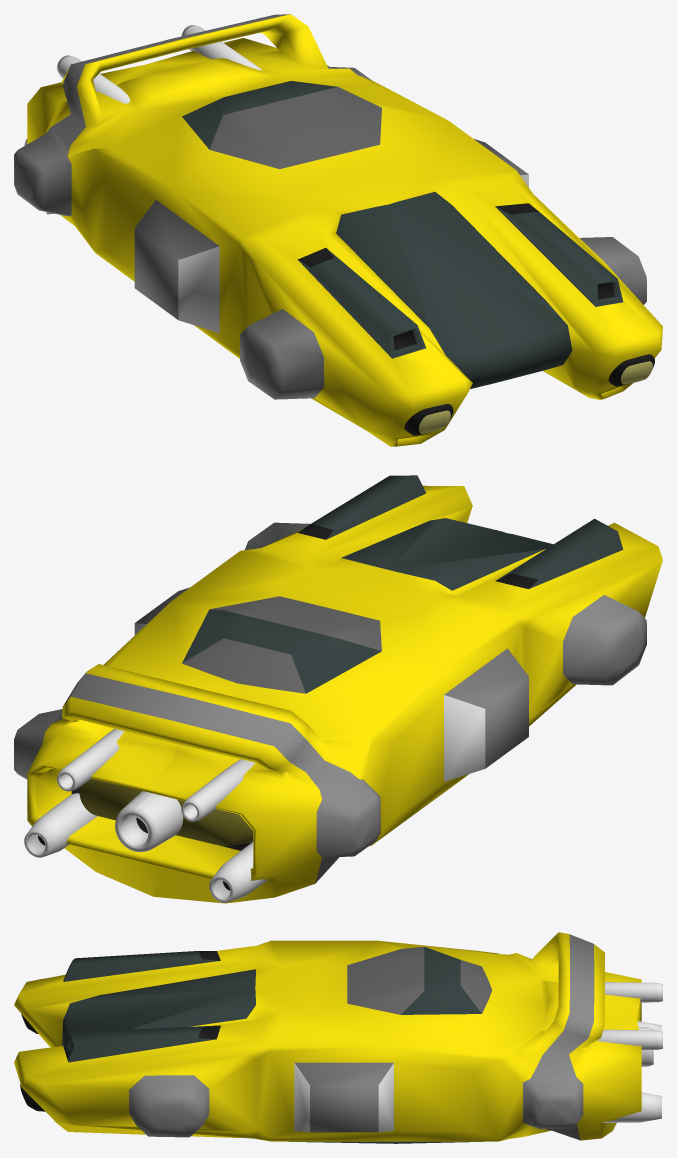
Rendered from bodyfix.fbx.
3 views of the same model, one above another, from view 1: azimuth 30°, elevation 25°; view 2: azimuth 150°, elevation 25°; view 3: azimuth 270°, elevation 25° (orthographic). The views are drawn at different scales.
Parts seen in each view (by area): view 1: Cube; view 2: Cube; view 3: Cube.
Part boxes in pixels (left/top/right/bottom): Cube: left=14, top=14, right=662, bottom=446; Cube: left=14, top=475, right=662, bottom=903; Cube: left=14, top=932, right=662, bottom=1143.
Bounding box in the file's own units: 542 × 249 × 1042.
